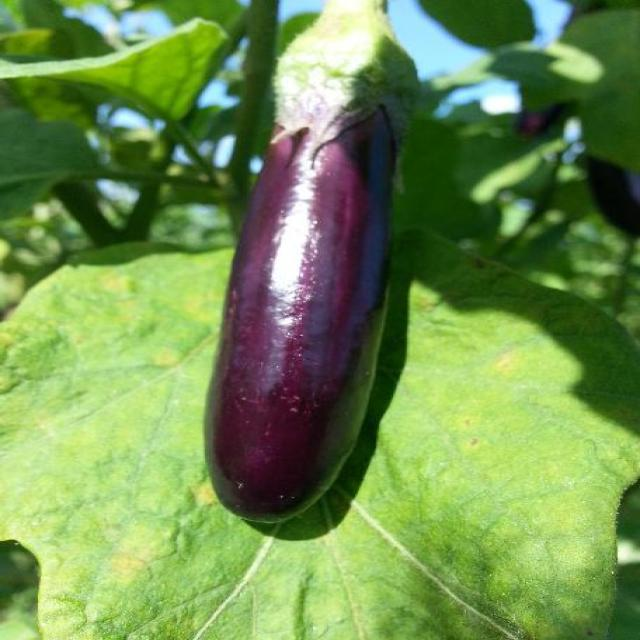eggplant: (201, 0, 425, 539)
